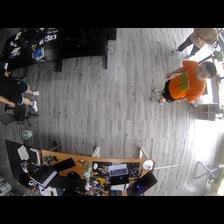normal: (149, 58, 216, 108), (1, 72, 41, 113)
